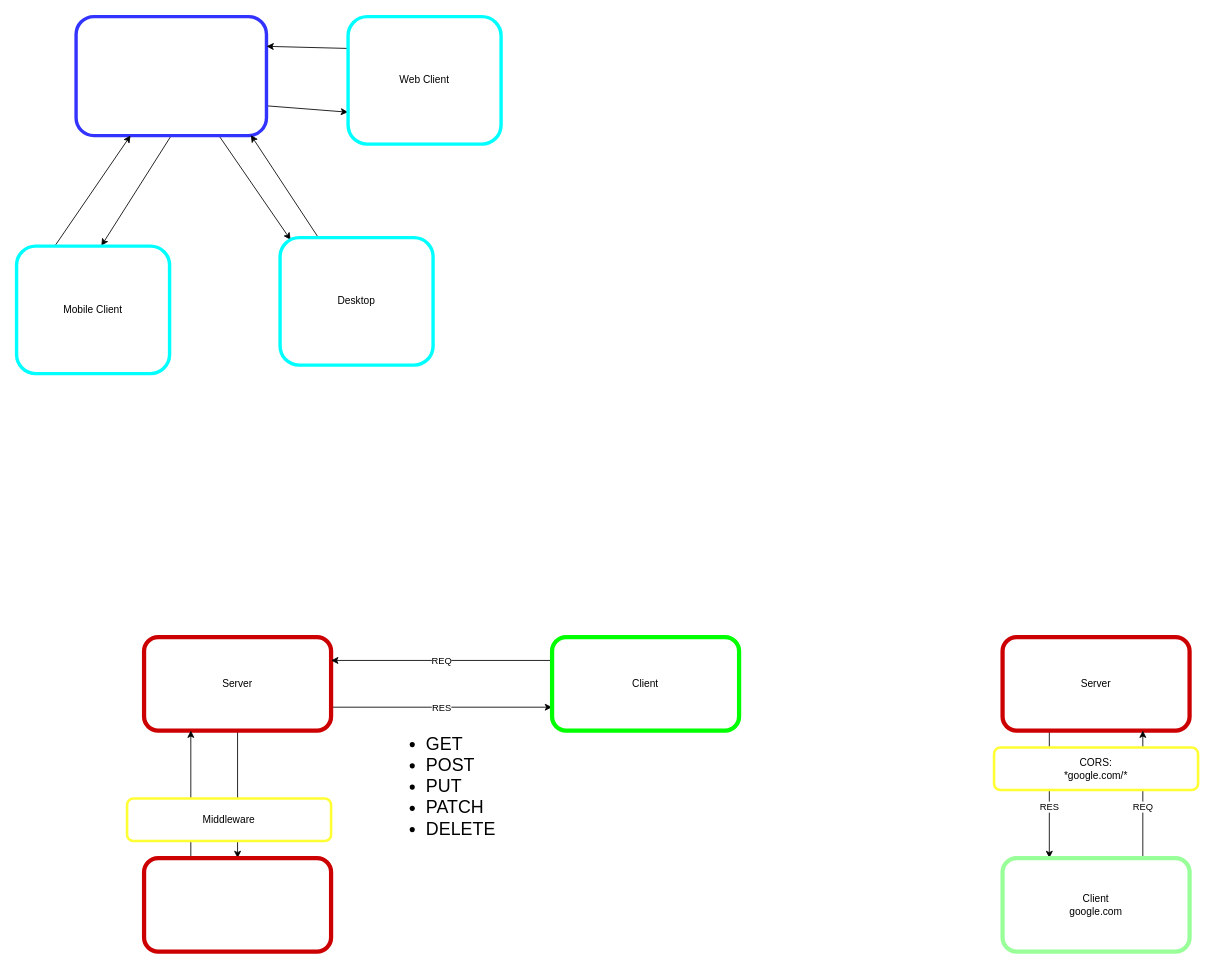
Image size: 1214x968. Some labels were removed from this diagram. Here are the shapes that lost their labels. From the top down, the centre of each, then its label:
At point (171, 75): "Server API".
At point (237, 904): "Server 2".
